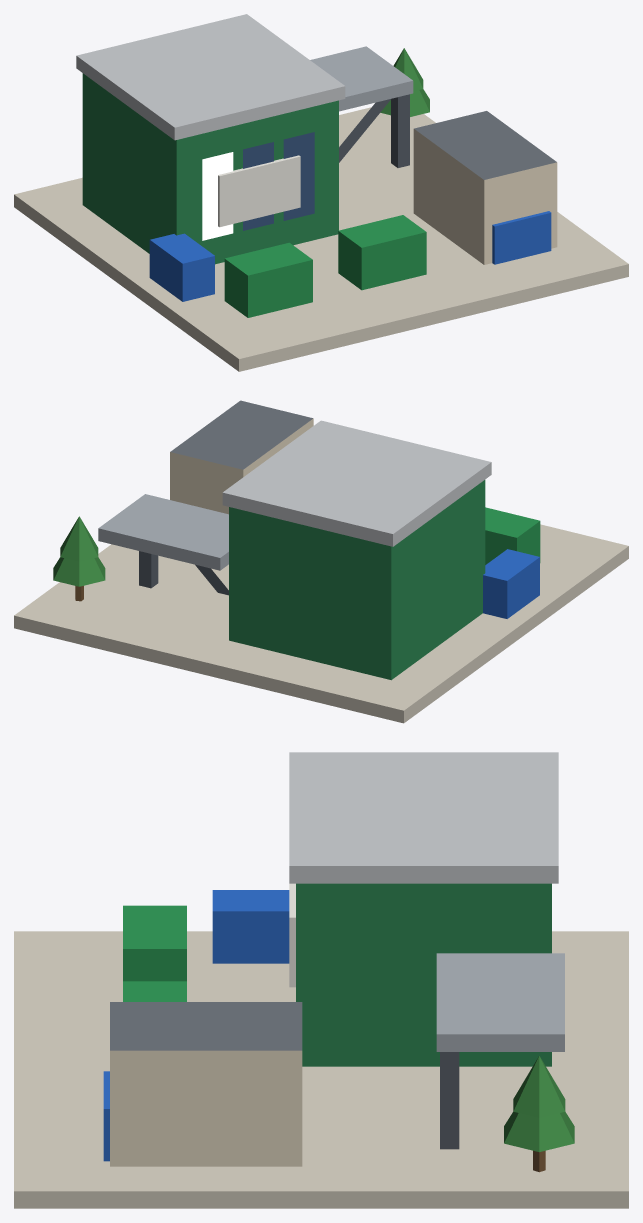
The picture shows the model from 3 angles, top to bottom: view 1: azimuth 30°, elevation 25°; view 2: azimuth 150°, elevation 25°; view 3: azimuth 270°, elevation 25°; orthographic projection. The views are drawn at different scales.
Visible parts, largest first — view 1: b39; view 2: b39; view 3: b39.
Part boxes in pixels (bbox=[...]): b39: bbox=[14, 14, 628, 371]; b39: bbox=[14, 400, 628, 723]; b39: bbox=[14, 752, 628, 1208].
Bounding box in the file's own units: 0.96 × 0.38 × 0.96.
